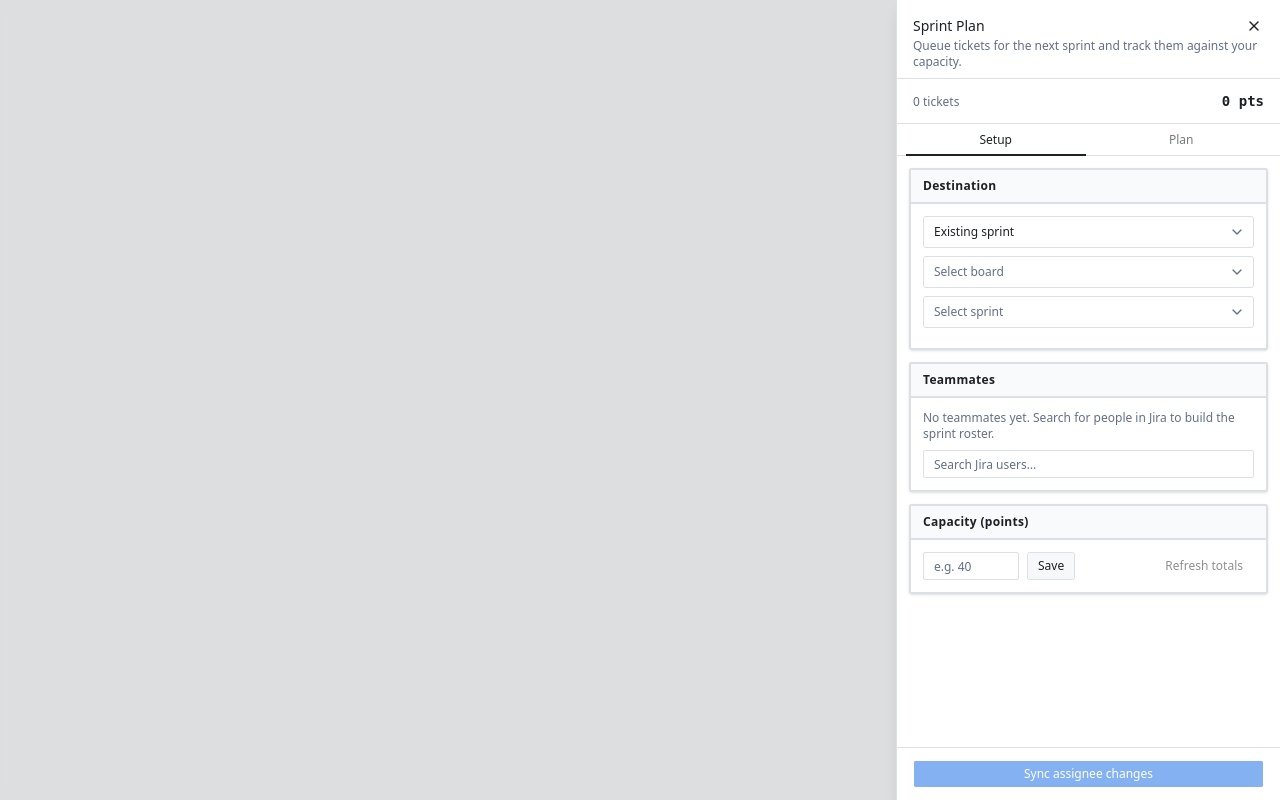
SprintPlanSheet › shows an empty-state message with no items
The width and height of the screenshot is (1280, 800).
Click the tab "Plan" at x=1181, y=140, box [1090,128,1272,152]
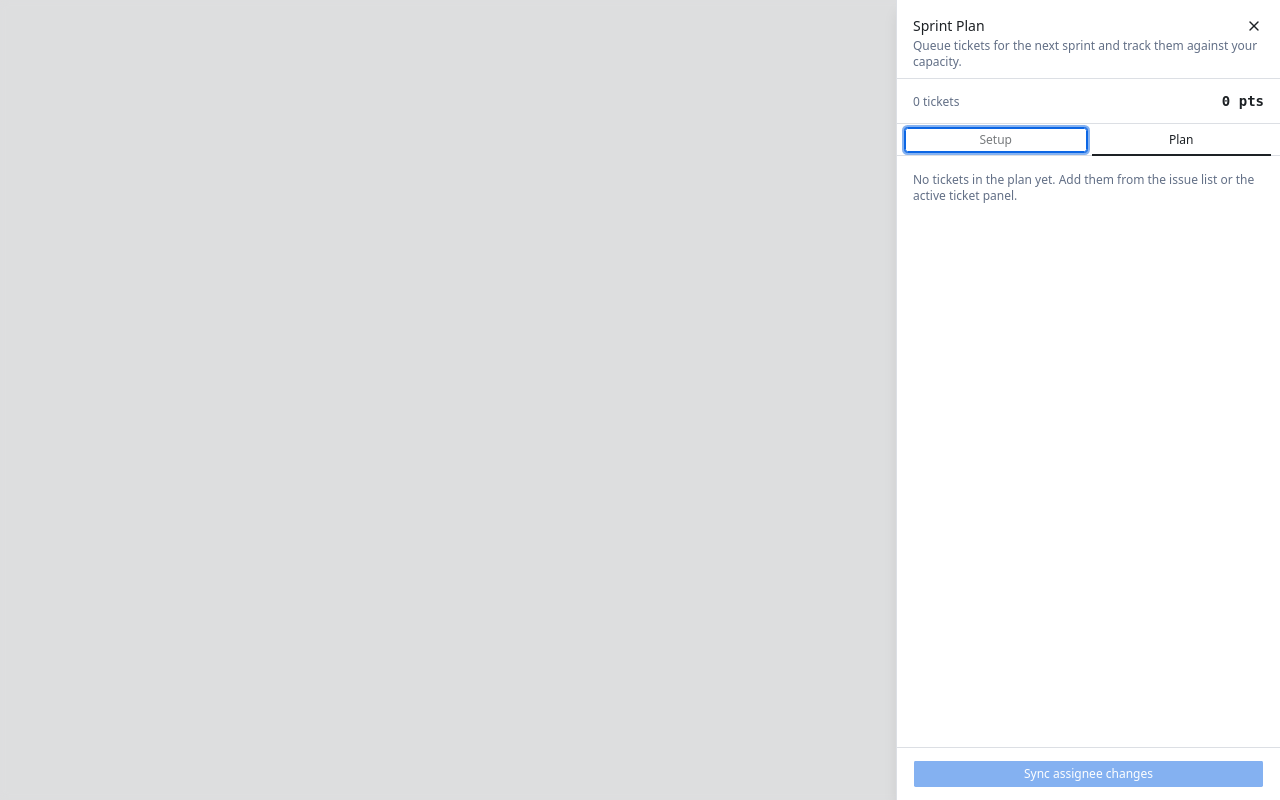
Now the text "No tickets in the plan yet" is shown, box [913,171,1254,204]
